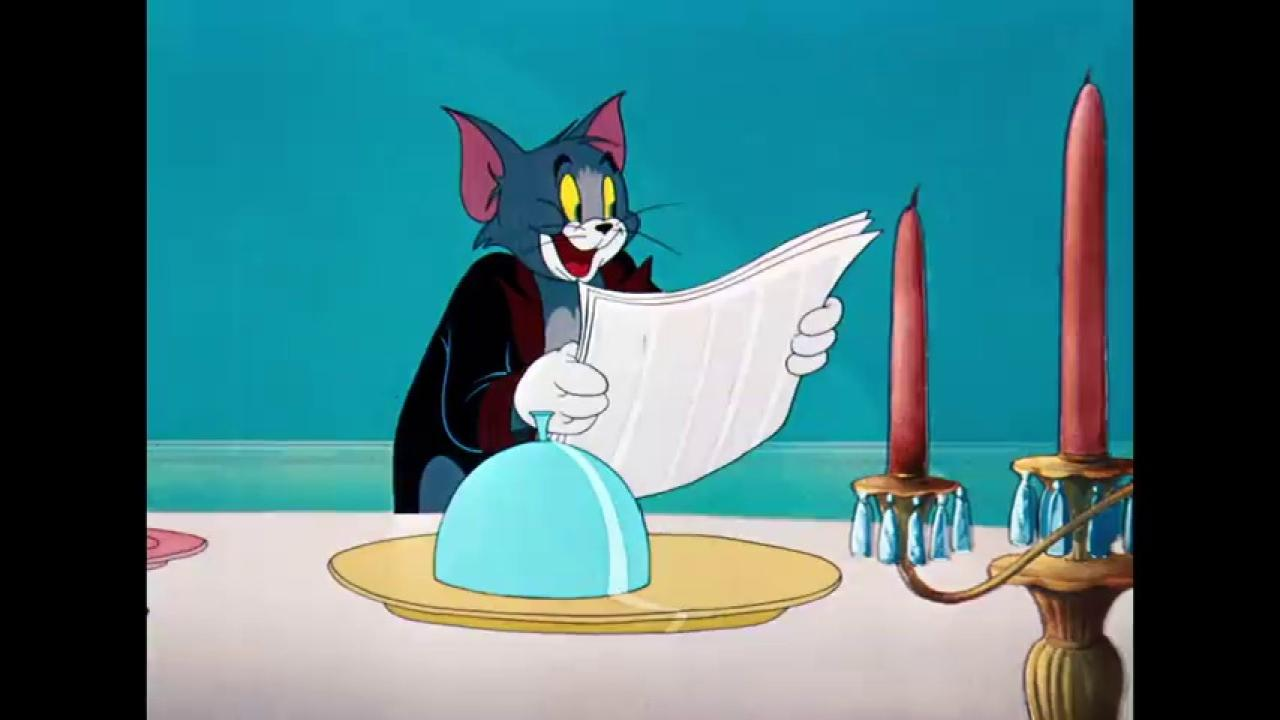Tom: (392, 88, 846, 514)
